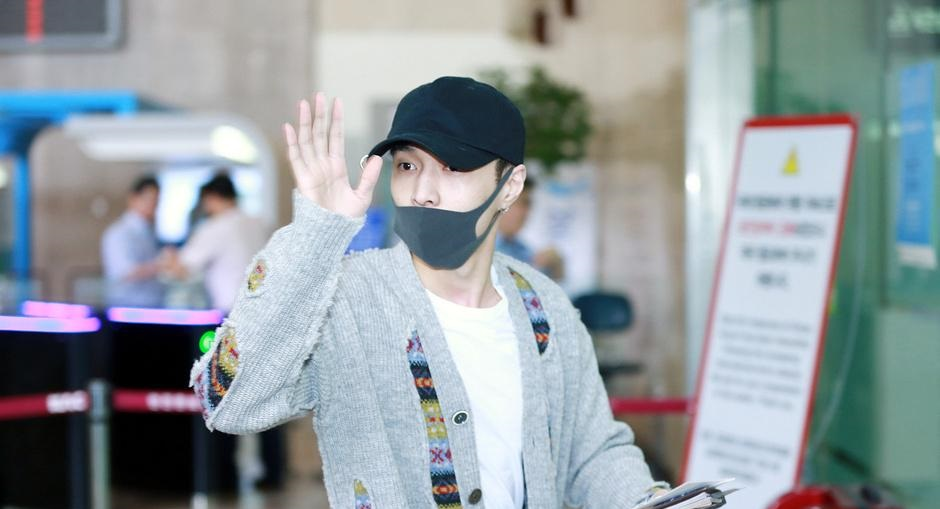face_mask: (389, 131, 484, 274)
